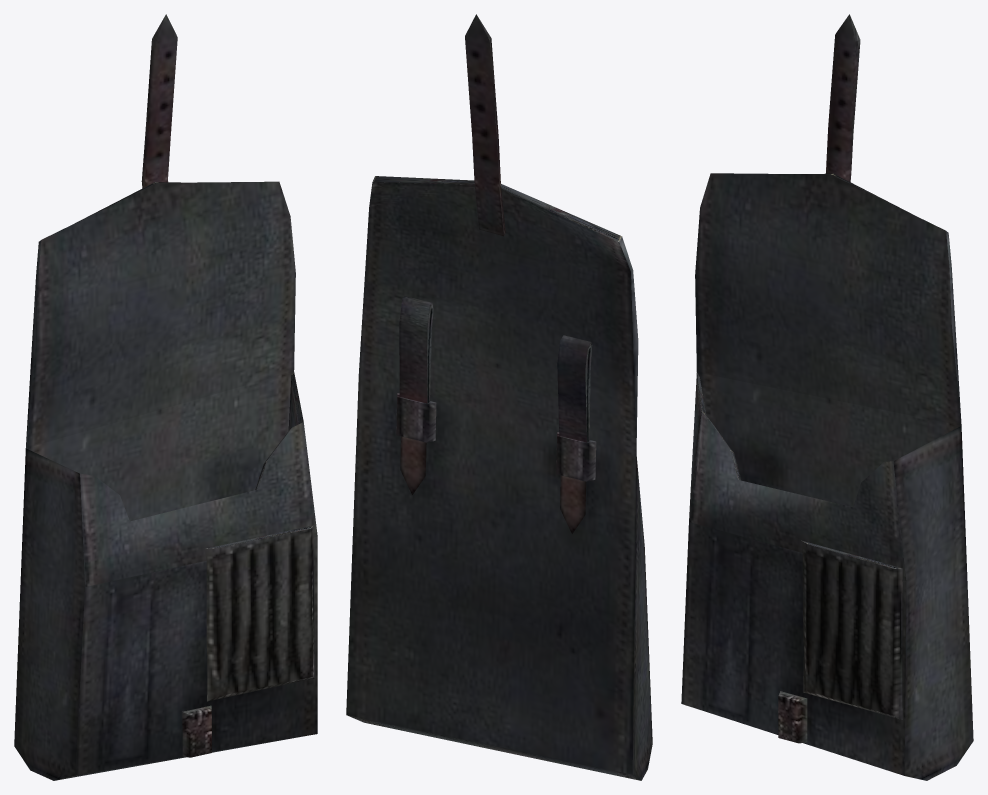
Rendered from prop_map_case_2.glb.
3 renders of one model, left to right at view 1: azimuth 30°, elevation 25°; view 2: azimuth 150°, elevation 25°; view 3: azimuth 330°, elevation 25°, orthographic. The views are drawn at different scales.
Bounding box in the file's own units: 10.48 × 26.27 × 3.47.
Materials: 1 (1 with a texture image).
